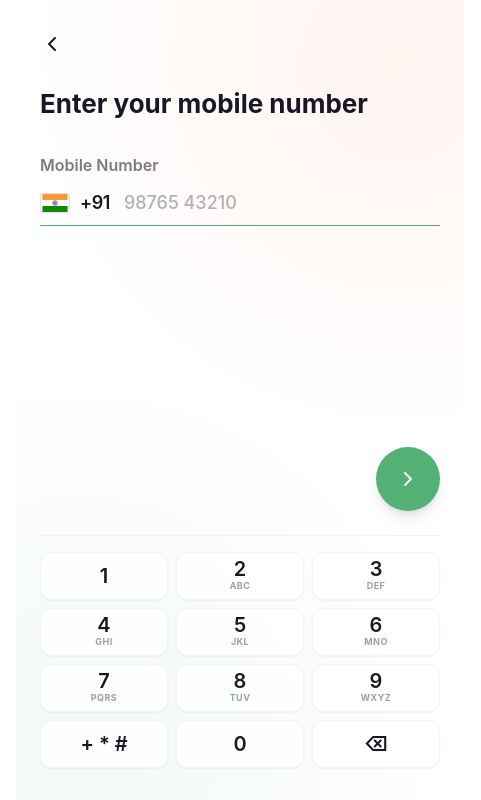
Test: Auth and Onboarding Flow › Phone Number Entry › stores phone number and navigates to verification on valid submit
Type "1712345678" into the field labelled "Mobile Number".
click(282, 202); type("1712345678")  # box [124,188,440,216]
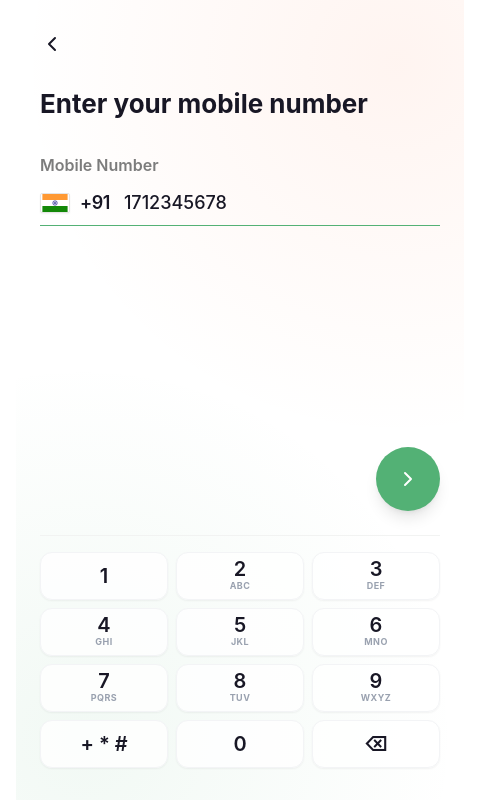
Click the button named "continue to verification code".
click(408, 479)  # box [376,447,440,511]
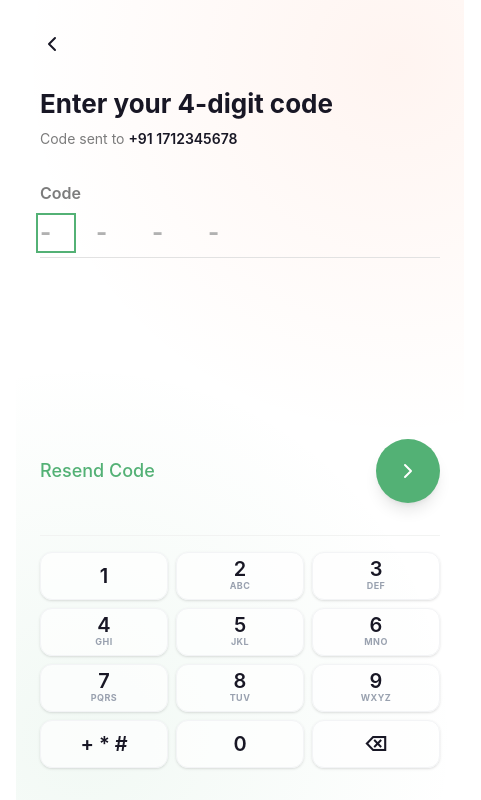
Expected: the heading "Enter your 4-digit code" is shown, [40,88,333,119]
